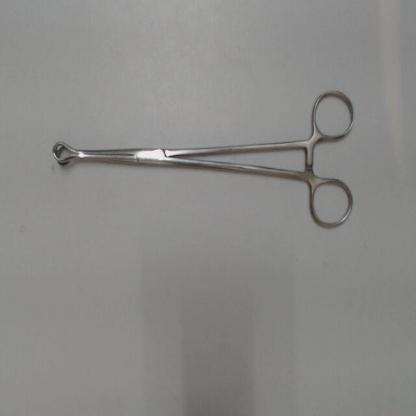8 Babcock Tissue Forceps: (49, 81, 360, 236)
